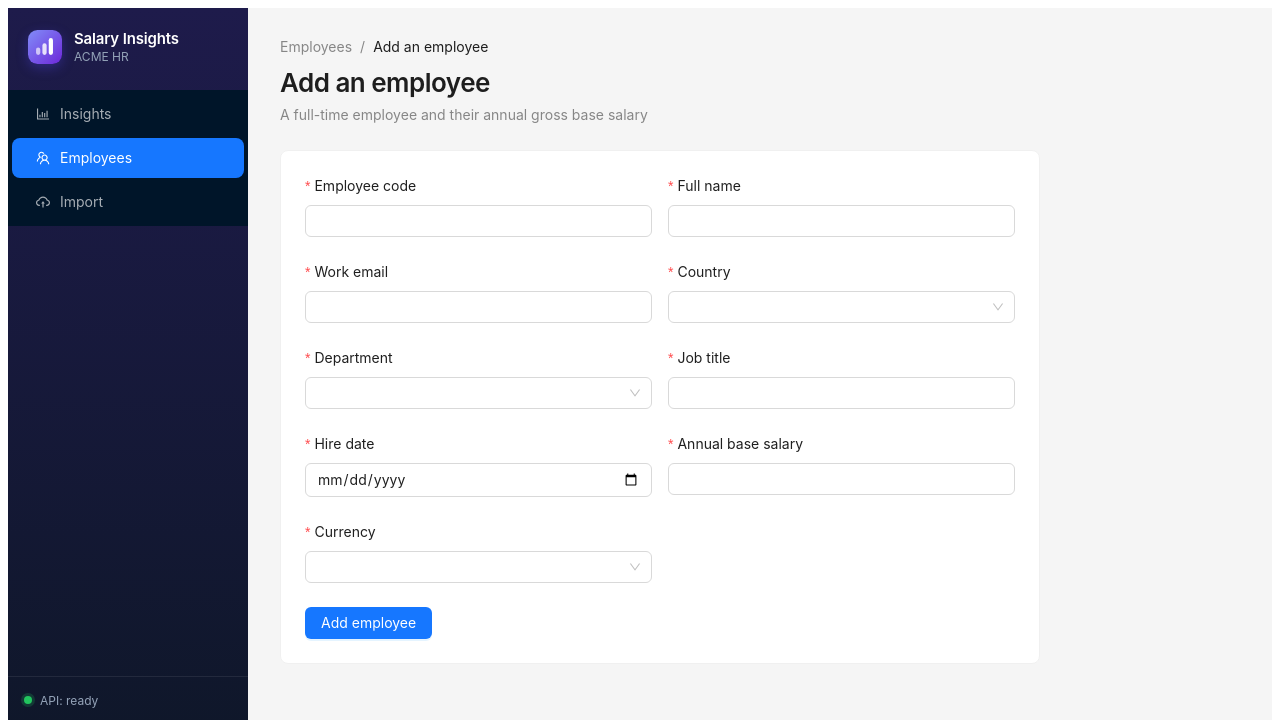
Test: Add an employee › uses the country's currency until another is picked, and points out the difference
What coordinates should you click on to do the following:
click the dropdown labelled "Country"
I would click on:
 (832, 307)
Its box is [680,292,985,322].
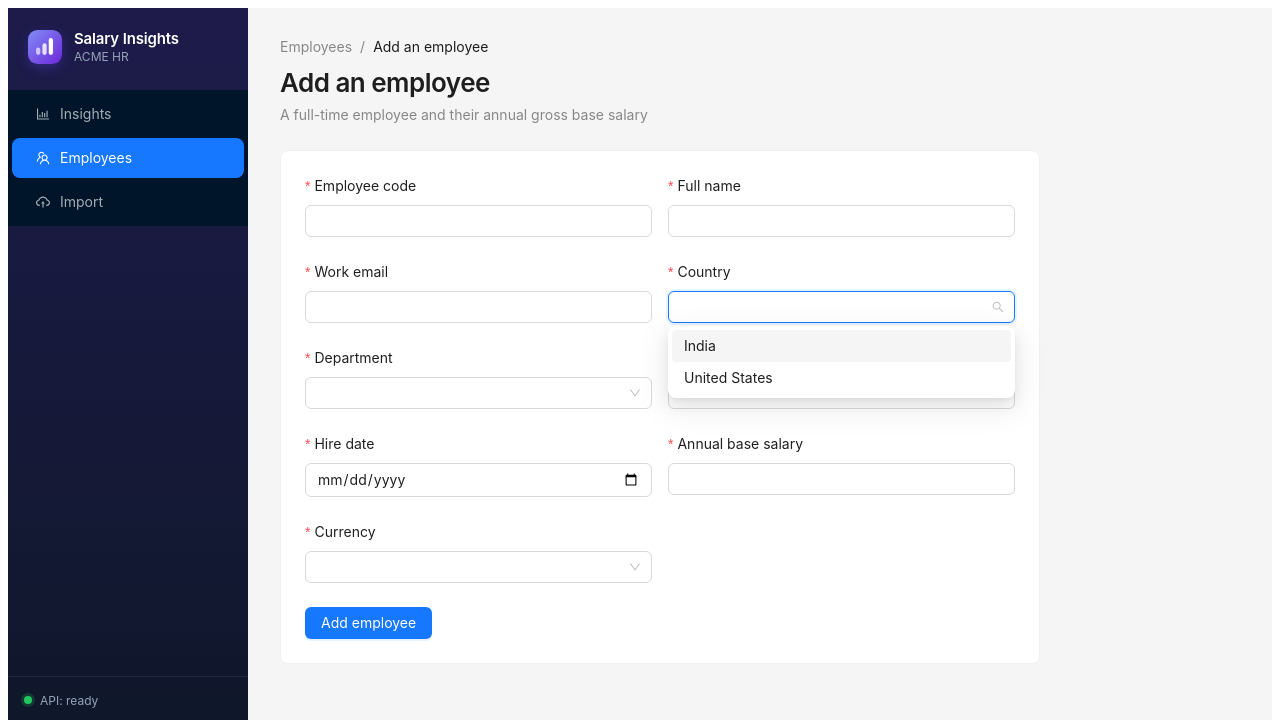
What coordinates should you click on to do the following:
click the option "India"
I would click on:
 (700, 346)
Its box is [672,330,1011,362].
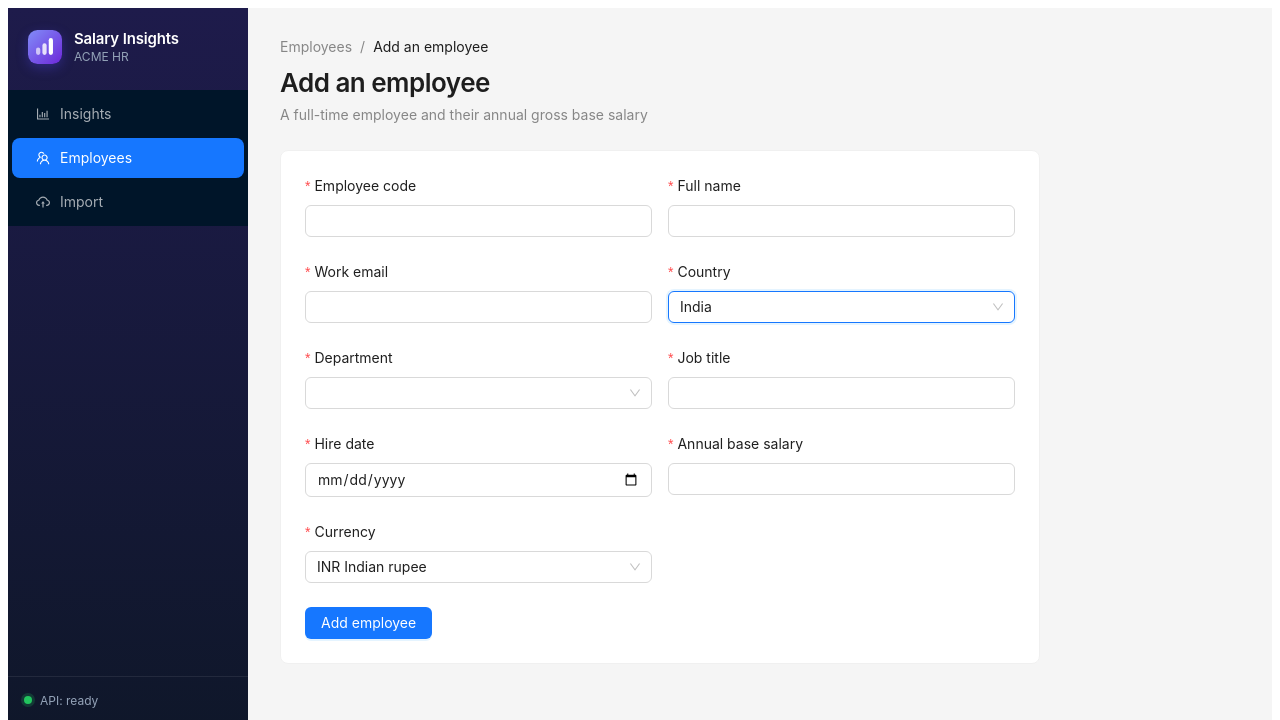
Expected: the text titled "INR Indian rupee" is shown, [317,558,427,575]
What coordinates should you click on to do the following:
click the dropdown labelled "Currency"
I would click on:
 (470, 567)
Its box is [317,552,622,582].
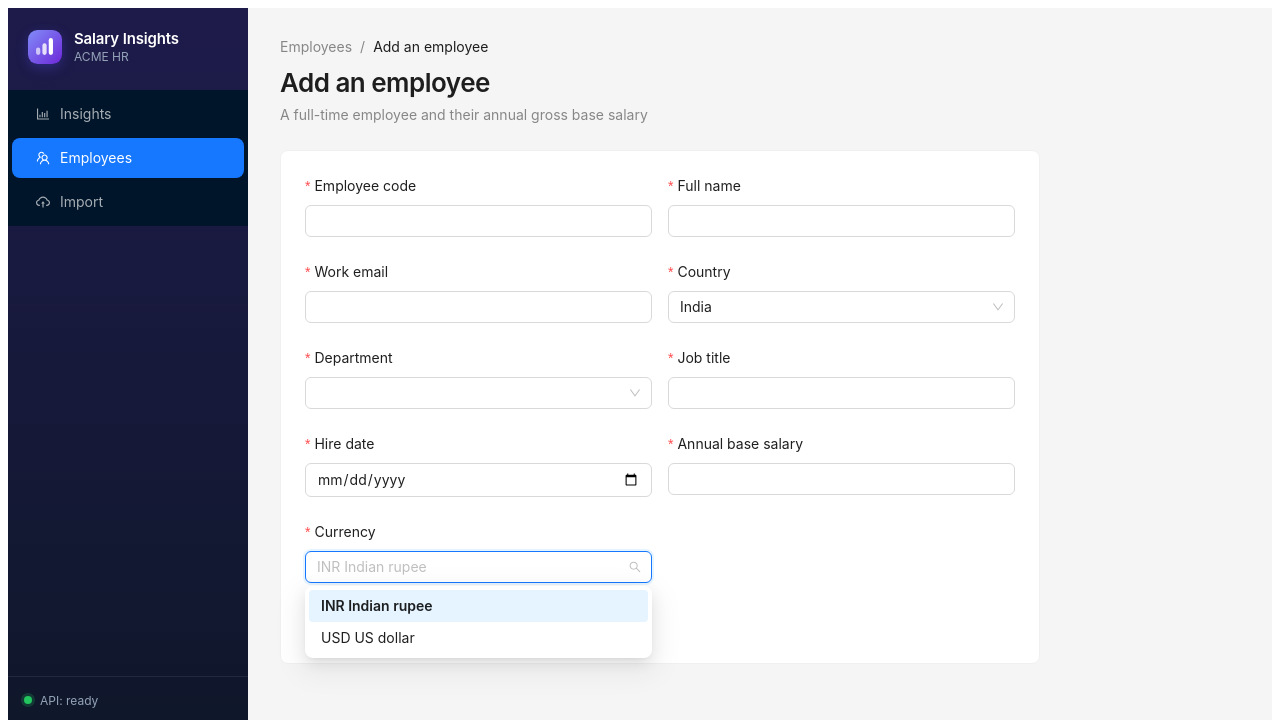
What coordinates should you click on to do the following:
click the option "USD US dollar"
I would click on:
 (368, 638)
Its box is [321,629,415,646].
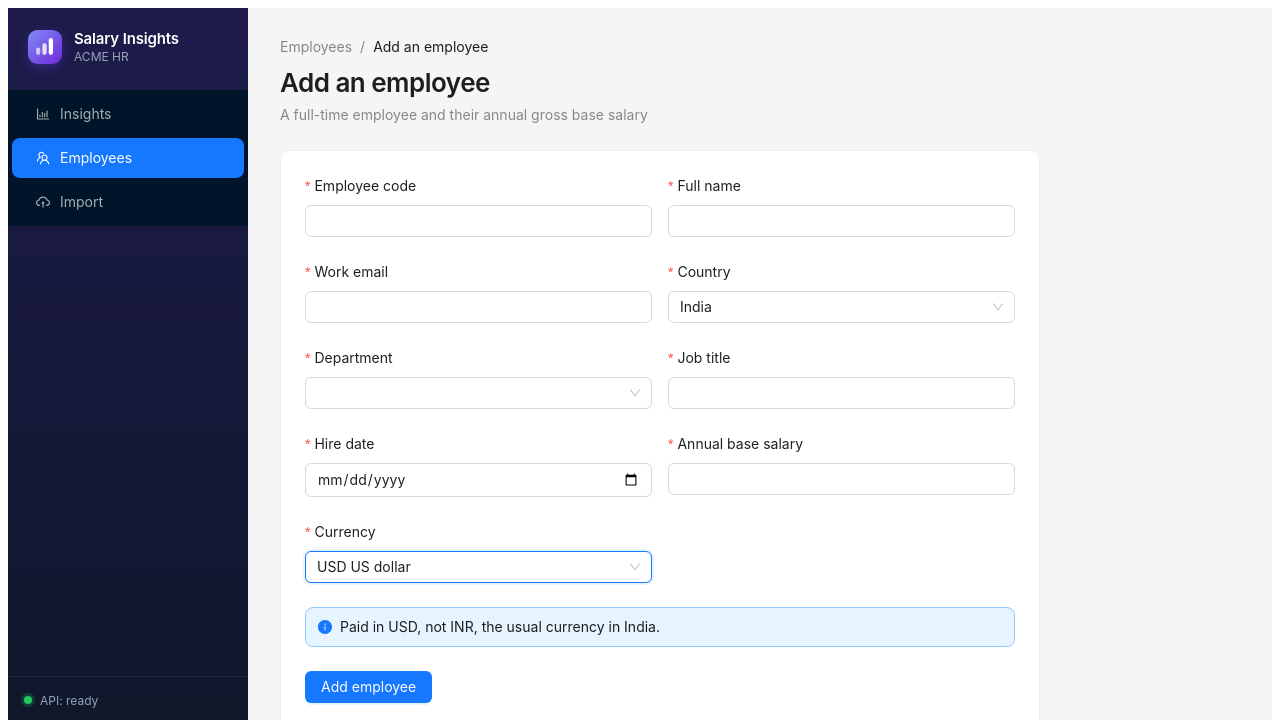
Expected: the text "Paid in USD, not INR, the usual currency in India." is shown, [340,618,660,635]
